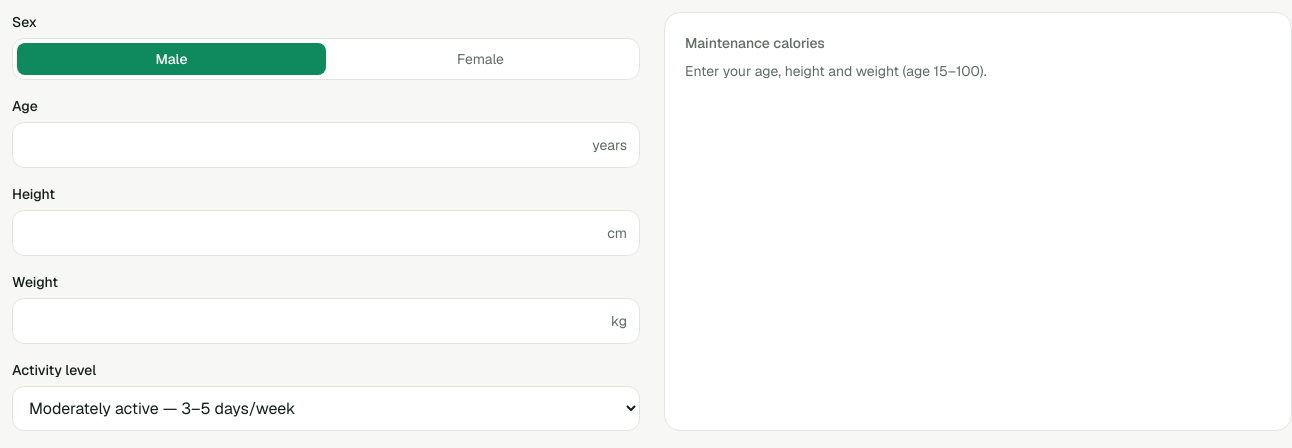
Test: CalorieCalculator › shows maintenance, BMR and goal targets (male, moderate)
Step 1. Type "30" into the number field labelled "Age" → [303, 145], box x1=13 y1=123 x2=592 y2=167
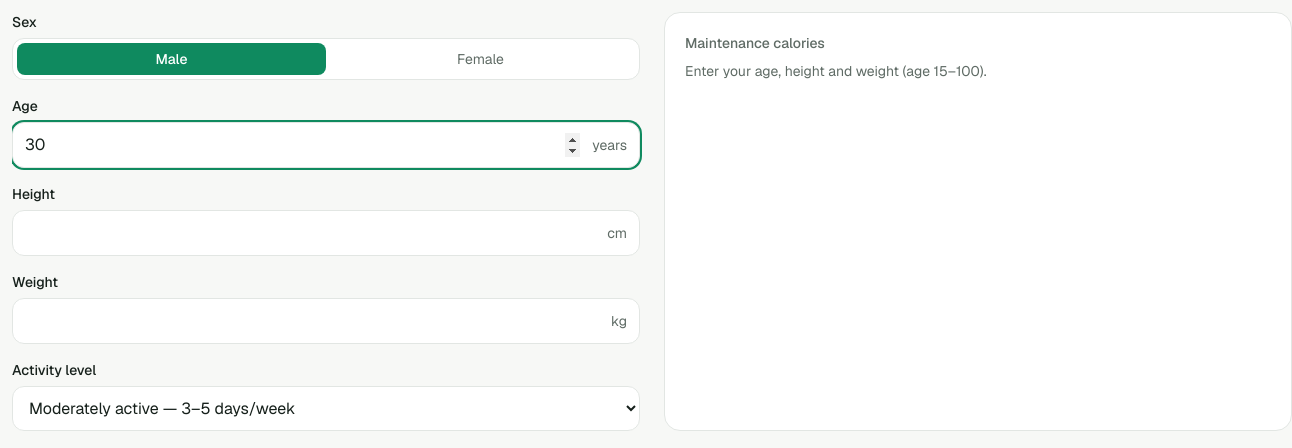
Step 2. Type "175" into the number field labelled "Height" → [310, 233], box x1=13 y1=211 x2=607 y2=255
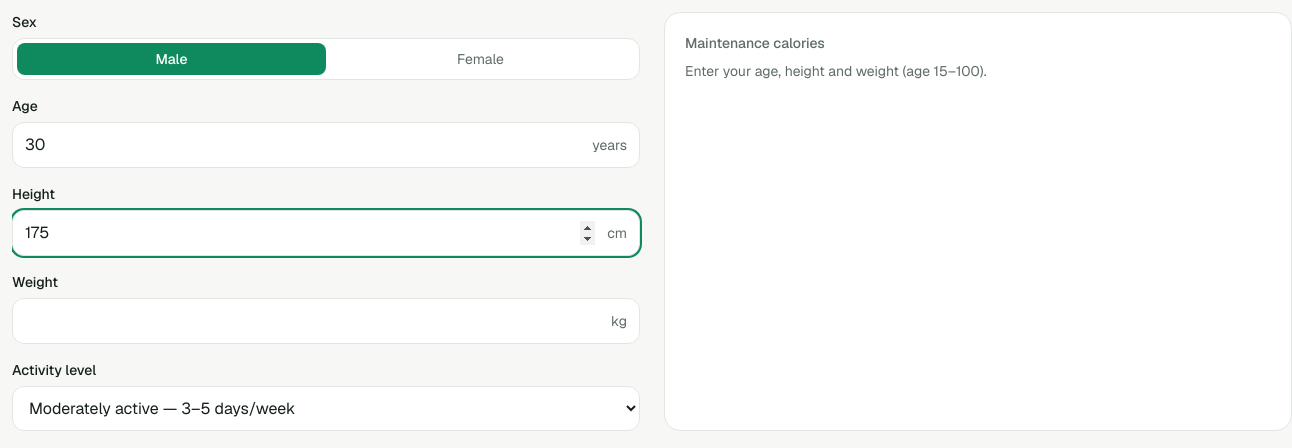
Step 3. Type "70" into the number field labelled "Weight" → [312, 321], box x1=13 y1=299 x2=611 y2=343
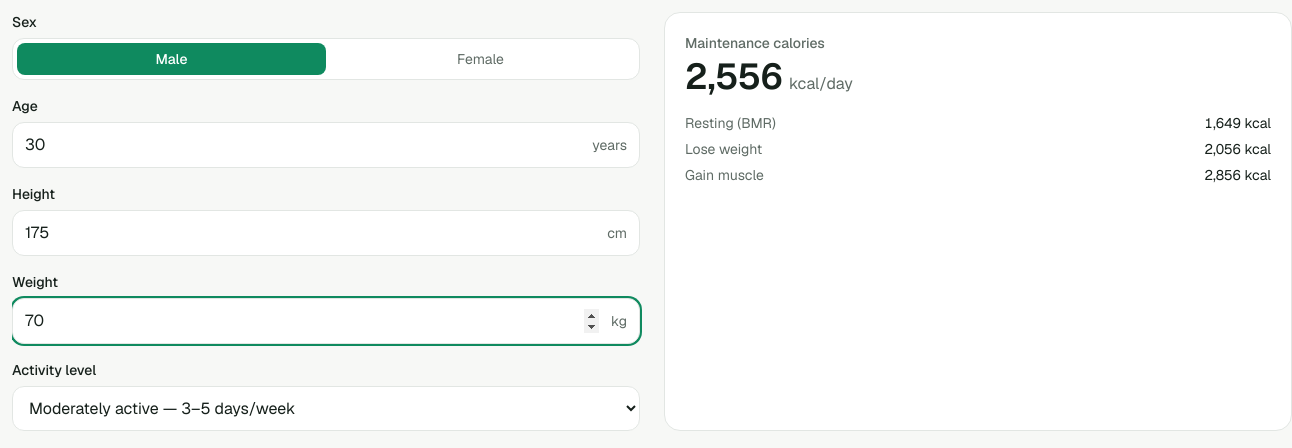
Expected: the text with test id "result-value" reads "2,556", x1=685 y1=53 x2=783 y2=100
Expected: the text "1,649 kcal" is shown, x1=1204 y1=114 x2=1271 y2=132
Expected: the text "2,056 kcal" is shown, x1=1204 y1=140 x2=1271 y2=158
